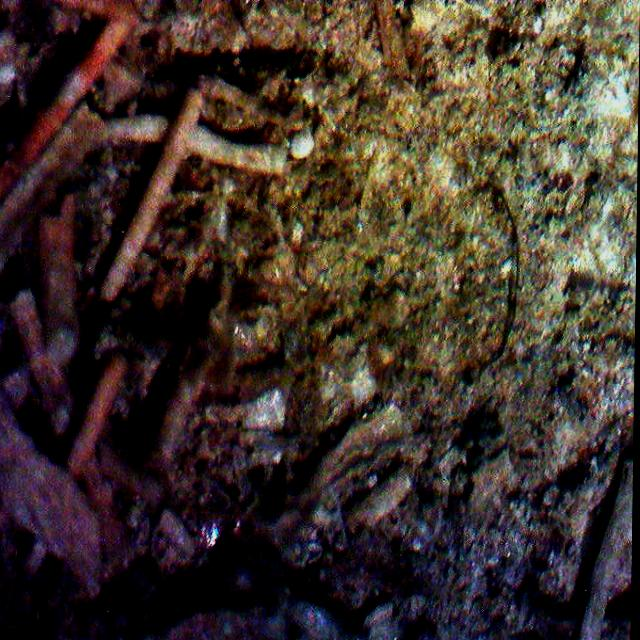microplastic: (478, 189, 533, 386)
